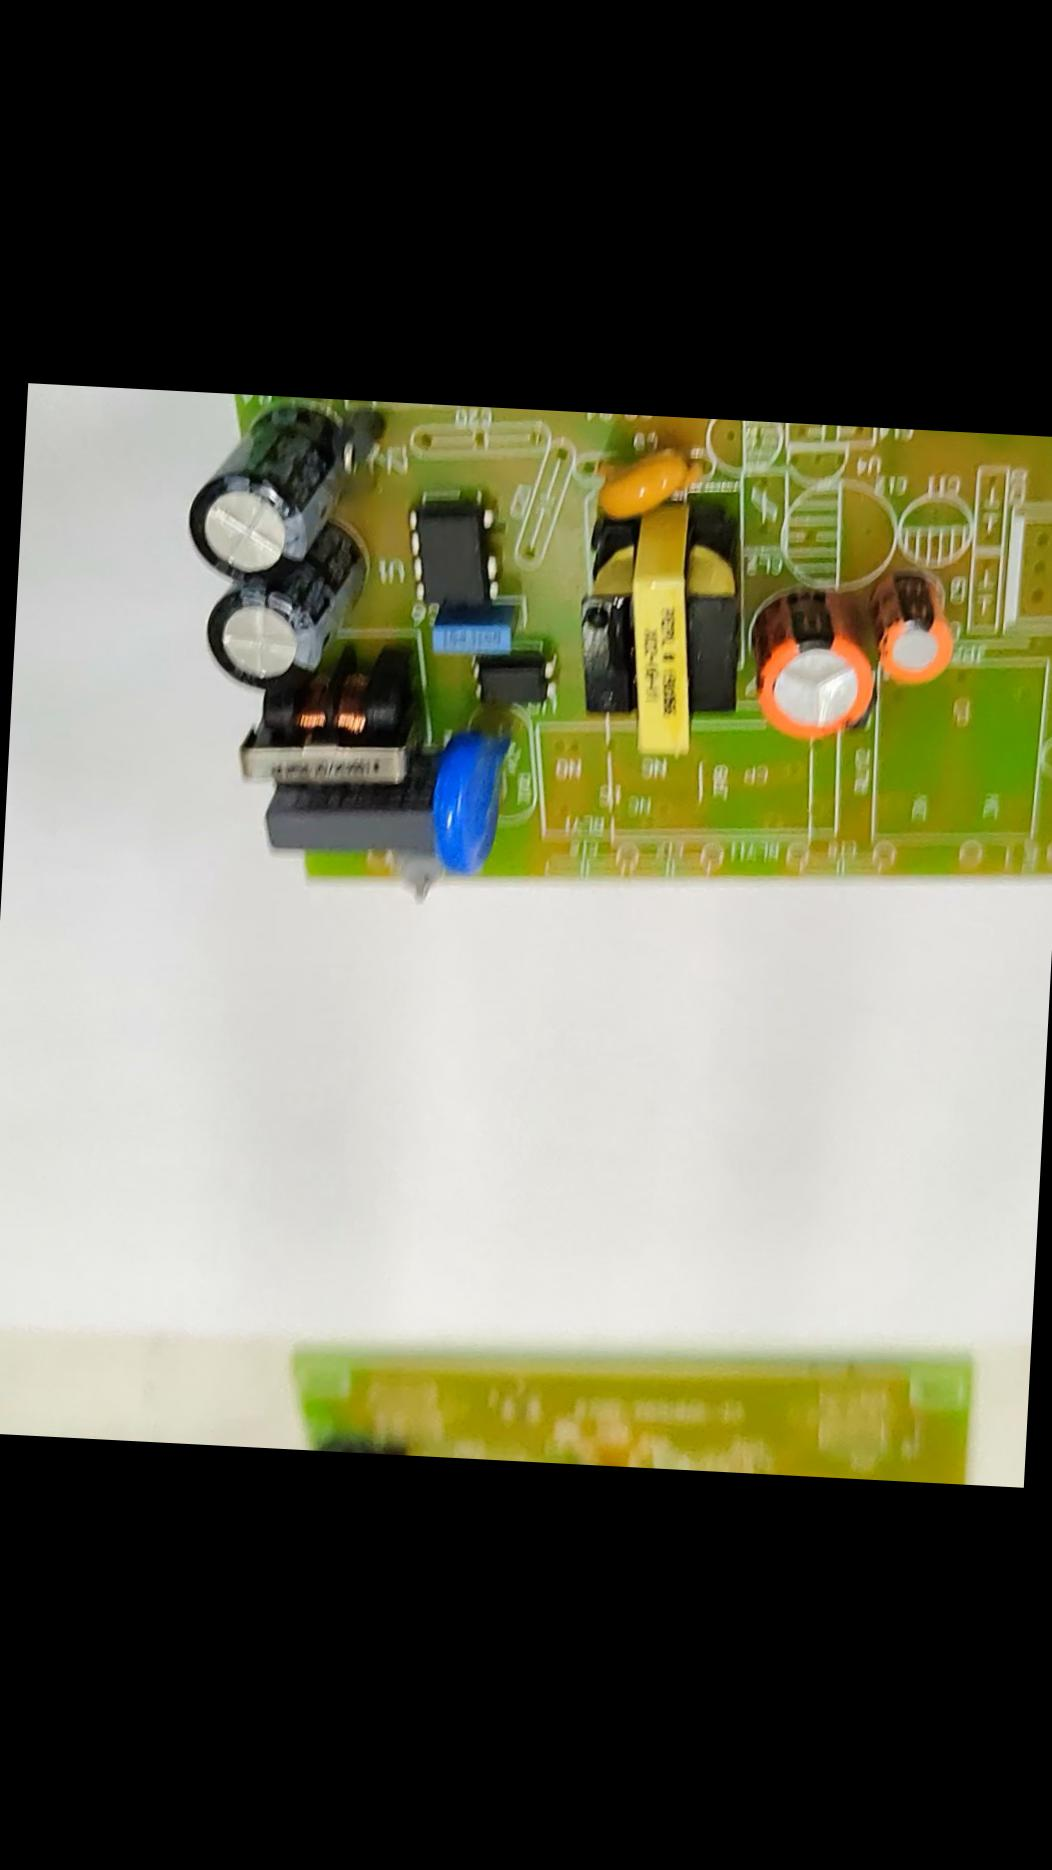Cap1: (740, 566, 880, 747)
Cap2: (873, 572, 965, 697)
Cap3: (198, 509, 370, 703)
Cap4: (179, 401, 358, 590)
MOSFET: (401, 485, 507, 616)
Mov: (420, 723, 518, 887)
Resistor: (393, 846, 446, 904)
Transformer: (570, 492, 748, 763), (222, 658, 424, 810)
